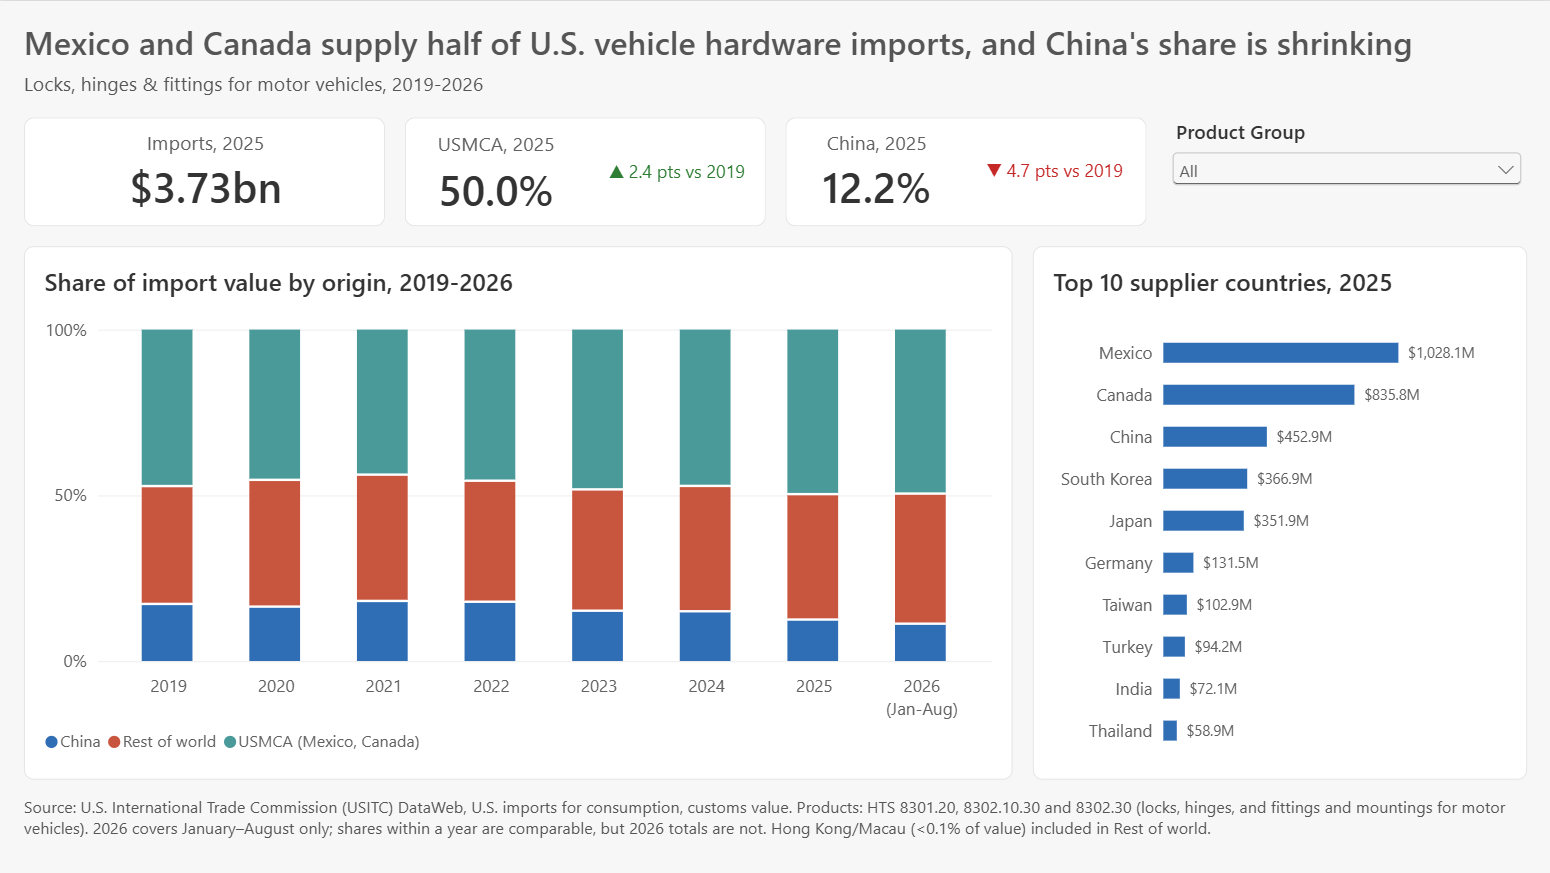

Layout of this report page (visuals, bound fields, positions):
{"tool":"powerbi","page":{"name":"Where it comes from","canvas":[1280,720],"ordinal":0},"visuals":[{"type":"columnChart","title":"Share of import value by origin, 2019-2026","fields":{"Category":["clean vehicle_hw.Year Label"],"Series":["clean vehicle_hw.Origin (chart)"],"Y":["clean vehicle_hw.Origin Share"]},"box":[20,202,816,440],"z":0},{"type":"clusteredBarChart","title":"Top 10 supplier countries, 2025","fields":{"Category":["clean vehicle_hw.country"],"Y":["clean vehicle_hw.Total Value"]},"box":[852,202,408,440],"z":1000},{"type":"cardVisual","fields":{"Data":["clean vehicle_hw.Imports Label"]},"box":[20,96,298,90],"z":2000},{"type":"textbox","box":[20,16,1240,40],"z":3000},{"type":"textbox","box":[20,56,1240,24],"z":4000},{"type":"cardVisual","fields":{"Data":["clean vehicle_hw.Origin Share"]},"box":[334,96,298,90],"z":5000},{"type":"cardVisual","fields":{"Data":["clean vehicle_hw.Origin Share"]},"box":[648,96,298,90],"z":6000},{"type":"slicer","fields":{"Values":["clean vehicle_hw.product_group"]},"box":[962,96,298,90],"z":7000},{"type":"textbox","box":[20,656,1240,44],"z":8000}]}

Visuals, with their boxes in screenshot pixels (x1, y1, x2, y2), scaled from the page's 1280x720 canvas onto the 1550x873 screenshot:
"Share of import value by origin, 2019-2026" columnChart: 24, 245, 1012, 778
"Top 10 supplier countries, 2025" clusteredBarChart: 1032, 245, 1526, 778
cardVisual - clean vehicle_hw.Imports Label: 24, 116, 385, 226
textbox: 24, 19, 1526, 68
textbox: 24, 68, 1526, 97
cardVisual - clean vehicle_hw.Origin Share: 404, 116, 765, 226
cardVisual - clean vehicle_hw.Origin Share: 785, 116, 1146, 226
slicer - clean vehicle_hw.product_group: 1165, 116, 1526, 226
textbox: 24, 795, 1526, 849
